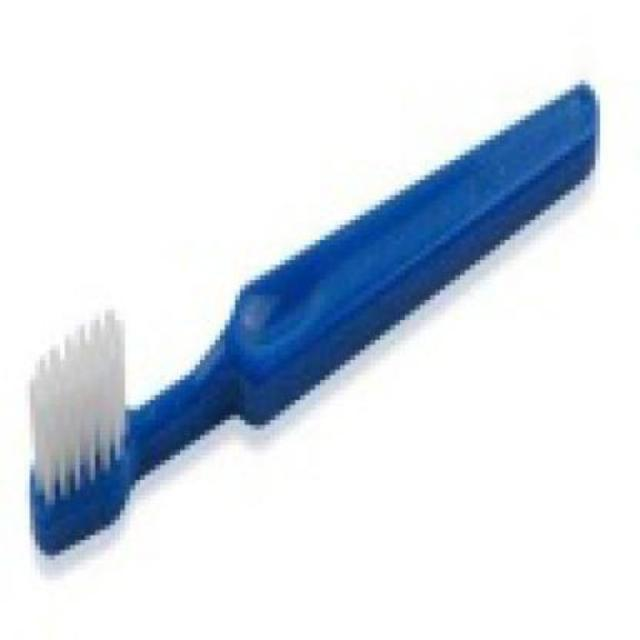toothbrush: (28, 52, 620, 570)
